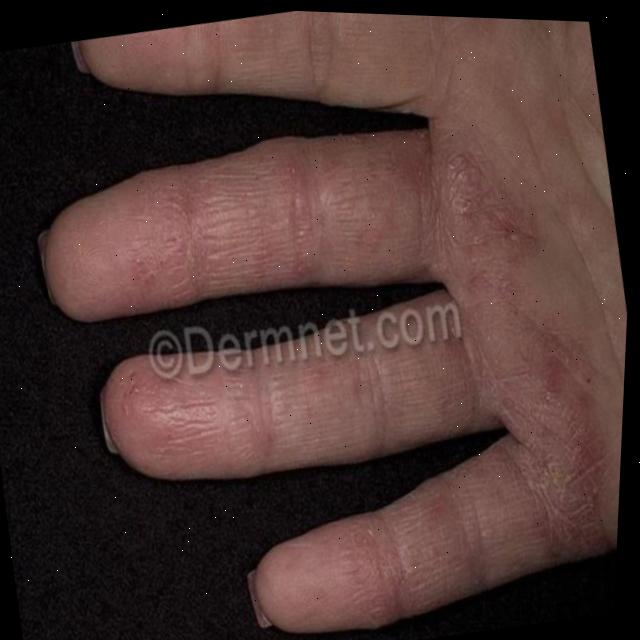Eczema: (102, 115, 628, 624)
